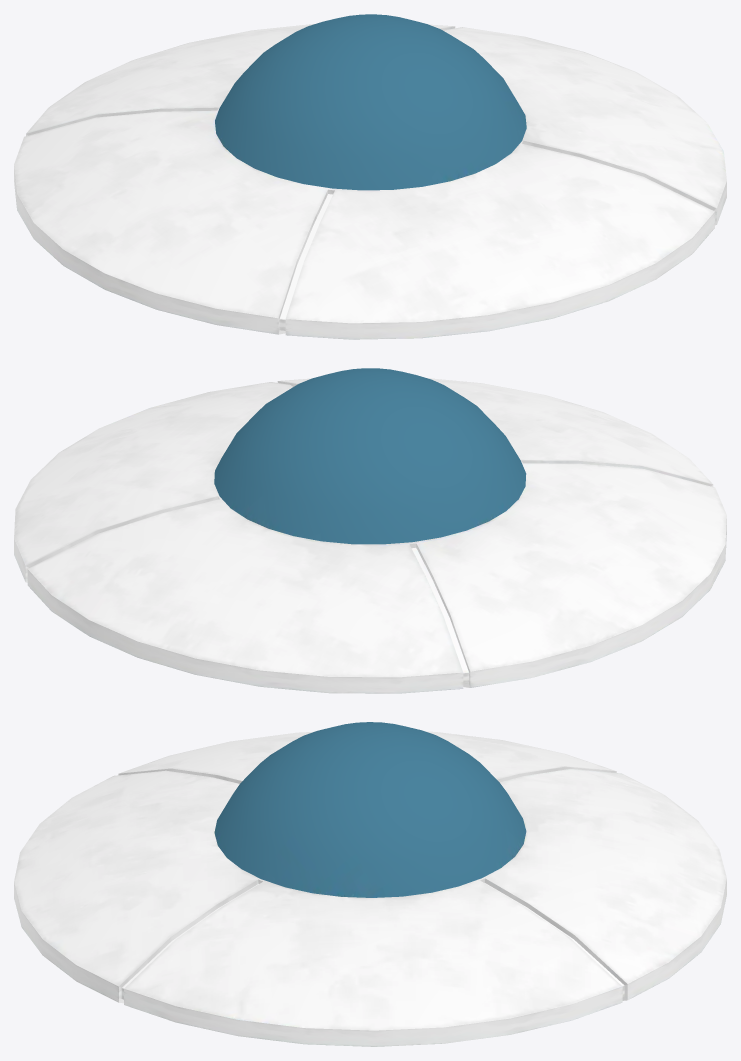
The model's file is ufo1.glb.
3 renders of one model, top to bottom at view 1: azimuth 30°, elevation 25°; view 2: azimuth 150°, elevation 25°; view 3: azimuth 270°, elevation 25°, orthographic.
Parts seen in each view (by area): view 1: UFO_cockpit.002; view 2: UFO_cockpit.002; view 3: UFO_cockpit.002.
Boxes of the visible parts, left/top/right/bottom form: UFO_cockpit.002: left=14, top=14, right=726, bottom=339; UFO_cockpit.002: left=14, top=368, right=726, bottom=693; UFO_cockpit.002: left=14, top=722, right=726, bottom=1046.
Bounding box in the file's own units: 125 × 49.59 × 125.
2 materials, 2 textured.
